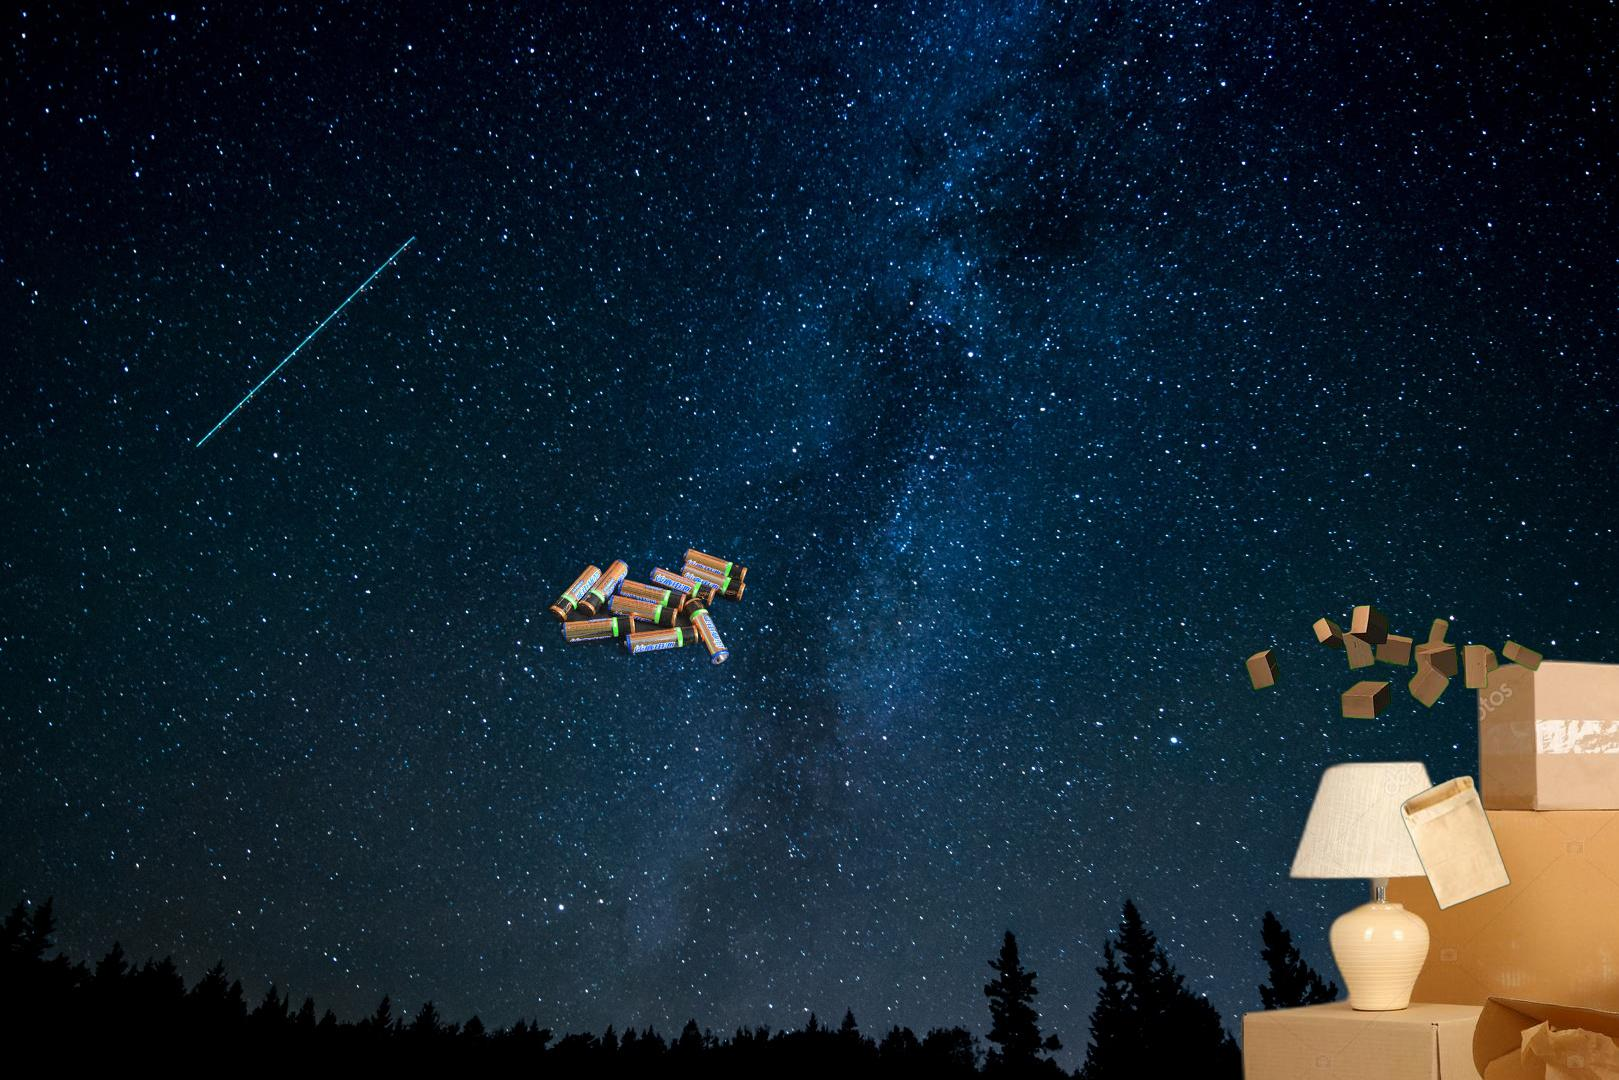battery: (544, 544, 753, 669)
paper-bag: (1398, 771, 1513, 912)
trashbox-cardboard: (872, 733, 1619, 1080), (1197, 653, 1619, 1080), (1240, 601, 1547, 722)
